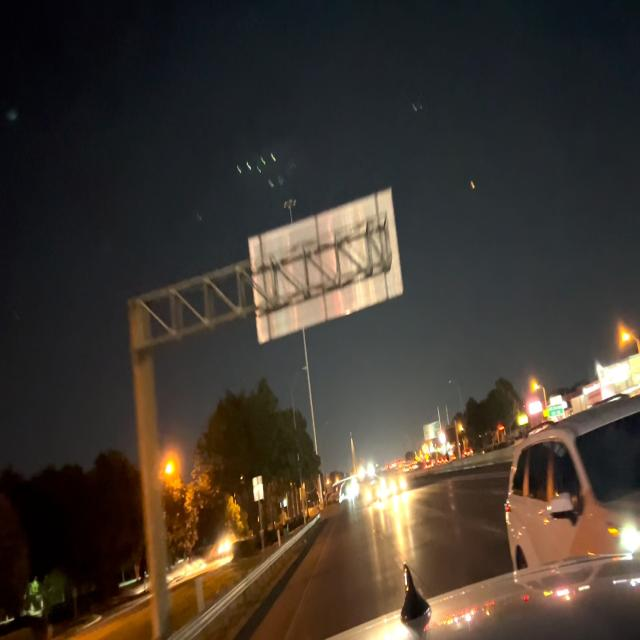back-of-sign: (248, 183, 403, 352)
